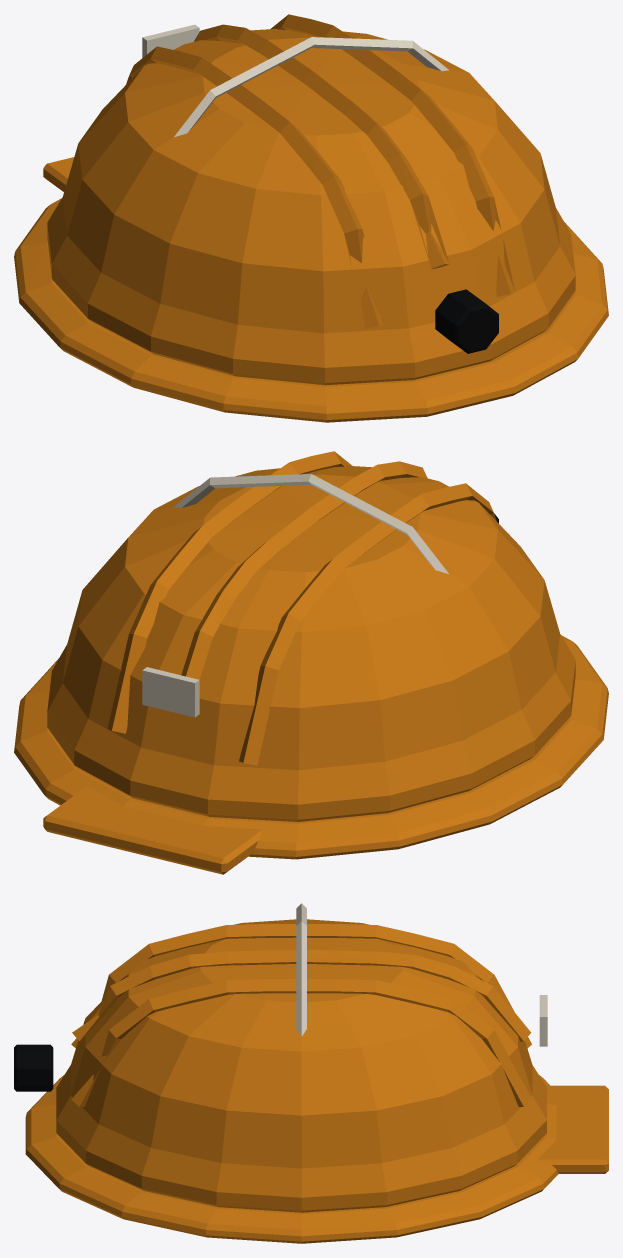
File: ACCESSORY_06_HardHat.obj
3 renders of one model, top to bottom at view 1: azimuth 30°, elevation 25°; view 2: azimuth 150°, elevation 25°; view 3: azimuth 270°, elevation 25°, orthographic. The views are drawn at different scales.
Visible parts, largest first — view 1: ACCESSORY_06_HardHat_Shell, ACCESSORY_06_HardHat_Brim, ACCESSORY_06_HardHat_Ridges, ACCESSORY_06_HardHat_Suspension, ACCESSORY_06_HardHat_Adjust_Knob, ACCESSORY_06_HardHat_Badge; view 2: ACCESSORY_06_HardHat_Shell, ACCESSORY_06_HardHat_Brim, ACCESSORY_06_HardHat_Ridges, ACCESSORY_06_HardHat_Suspension, ACCESSORY_06_HardHat_Badge; view 3: ACCESSORY_06_HardHat_Shell, ACCESSORY_06_HardHat_Brim, ACCESSORY_06_HardHat_Ridges, ACCESSORY_06_HardHat_Adjust_Knob, ACCESSORY_06_HardHat_Suspension, ACCESSORY_06_HardHat_Badge.
Part boxes in pixels (x1=…): ACCESSORY_06_HardHat_Shell: x1=47, y1=29, x2=575, y2=385; ACCESSORY_06_HardHat_Brim: x1=14, y1=157, x2=608, y2=422; ACCESSORY_06_HardHat_Ridges: x1=126, y1=14, x2=515, y2=328; ACCESSORY_06_HardHat_Suspension: x1=174, y1=37, x2=448, y2=137; ACCESSORY_06_HardHat_Adjust_Knob: x1=435, y1=289, x2=498, y2=353; ACCESSORY_06_HardHat_Badge: x1=142, y1=24, x2=199, y2=57; ACCESSORY_06_HardHat_Shell: x1=47, y1=465, x2=575, y2=821; ACCESSORY_06_HardHat_Brim: x1=14, y1=635, x2=608, y2=874; ACCESSORY_06_HardHat_Ridges: x1=107, y1=451, x2=496, y2=765; ACCESSORY_06_HardHat_Suspension: x1=174, y1=474, x2=448, y2=573; ACCESSORY_06_HardHat_Badge: x1=142, y1=667, x2=199, y2=717; ACCESSORY_06_HardHat_Shell: x1=56, y1=919, x2=546, y2=1212; ACCESSORY_06_HardHat_Brim: x1=25, y1=1075, x2=608, y2=1243; ACCESSORY_06_HardHat_Ridges: x1=71, y1=924, x2=531, y2=1106; ACCESSORY_06_HardHat_Adjust_Knob: x1=14, y1=1044, x2=53, y2=1091; ACCESSORY_06_HardHat_Suspension: x1=296, y1=903, x2=306, y2=1036; ACCESSORY_06_HardHat_Badge: x1=539, y1=995, x2=547, y2=1046.
Bounding box in the file's own units: 0.3828 × 0.184 × 0.455.
